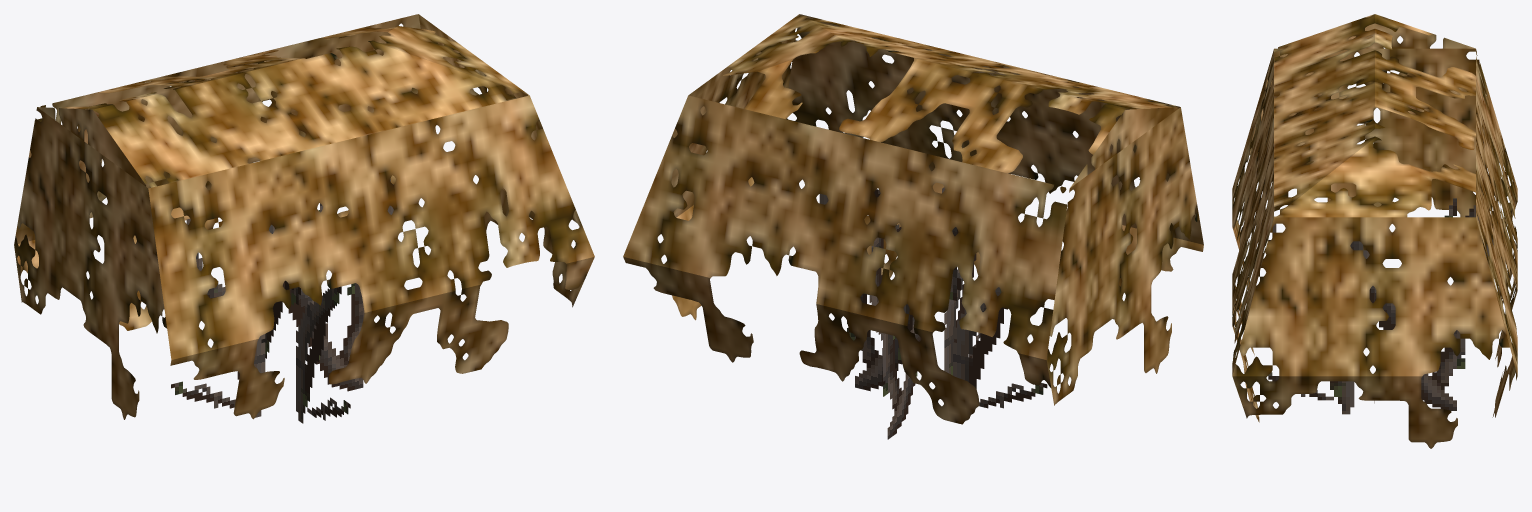
File: bush_long_half_open_right_roots_autumn.fbx
3 views of the same model, side by side, from view 1: azimuth 30°, elevation 25°; view 2: azimuth 150°, elevation 25°; view 3: azimuth 270°, elevation 25° (orthographic). The views are drawn at different scales.
Visible parts, largest first — view 1: bush_long_half_open_right_roots_autumn; view 2: bush_long_half_open_right_roots_autumn; view 3: bush_long_half_open_right_roots_autumn.
Part boxes in pixels (x1,y1,x2,y2): bush_long_half_open_right_roots_autumn: [14, 14, 594, 423]; bush_long_half_open_right_roots_autumn: [623, 14, 1203, 439]; bush_long_half_open_right_roots_autumn: [1232, 14, 1517, 448].
Size of the model in its own units: 112 by 87.65 by 71.91.
2 materials, 2 textured.
